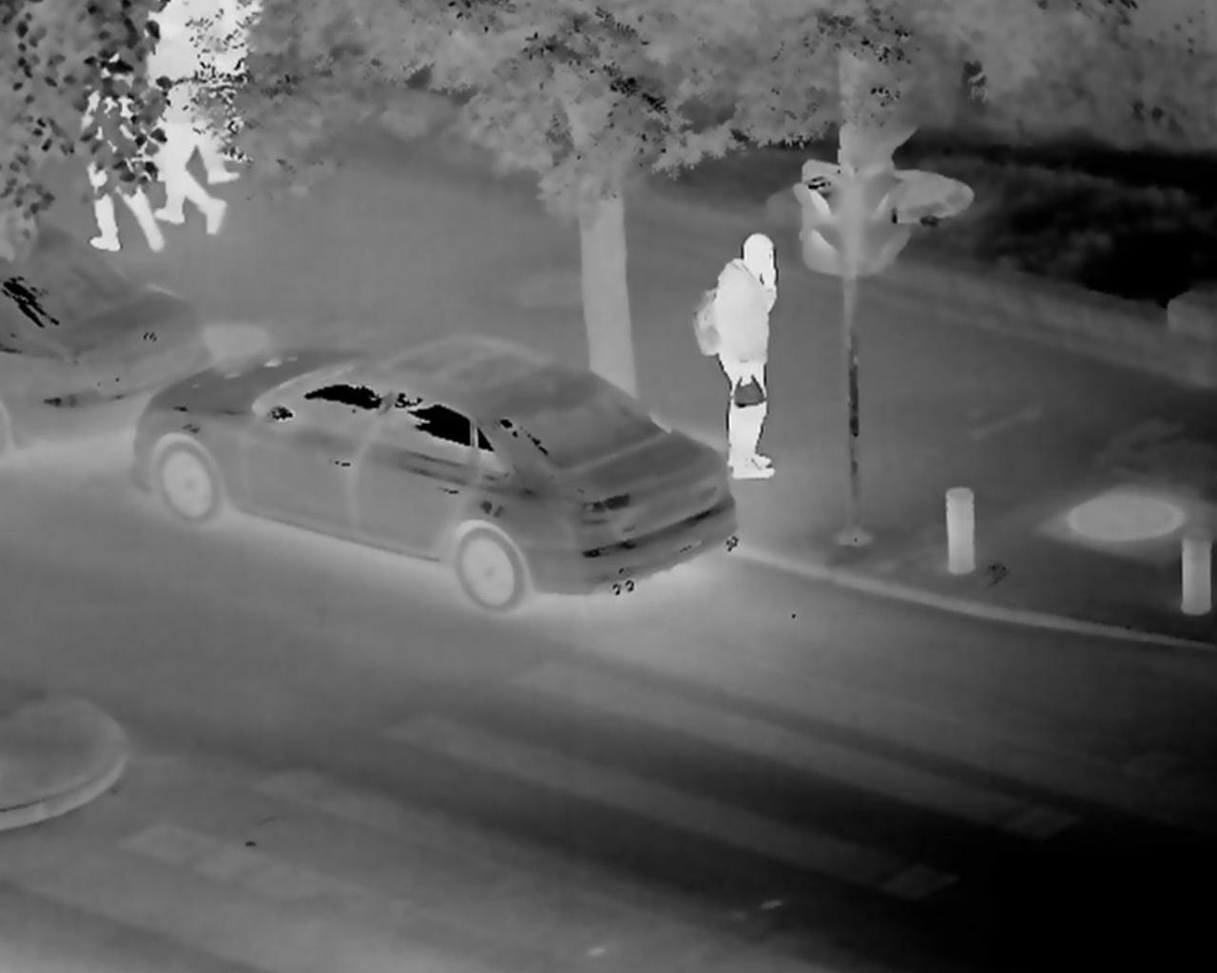person: (700, 234, 789, 480), (77, 34, 162, 252), (146, 24, 218, 236), (194, 6, 250, 193)
